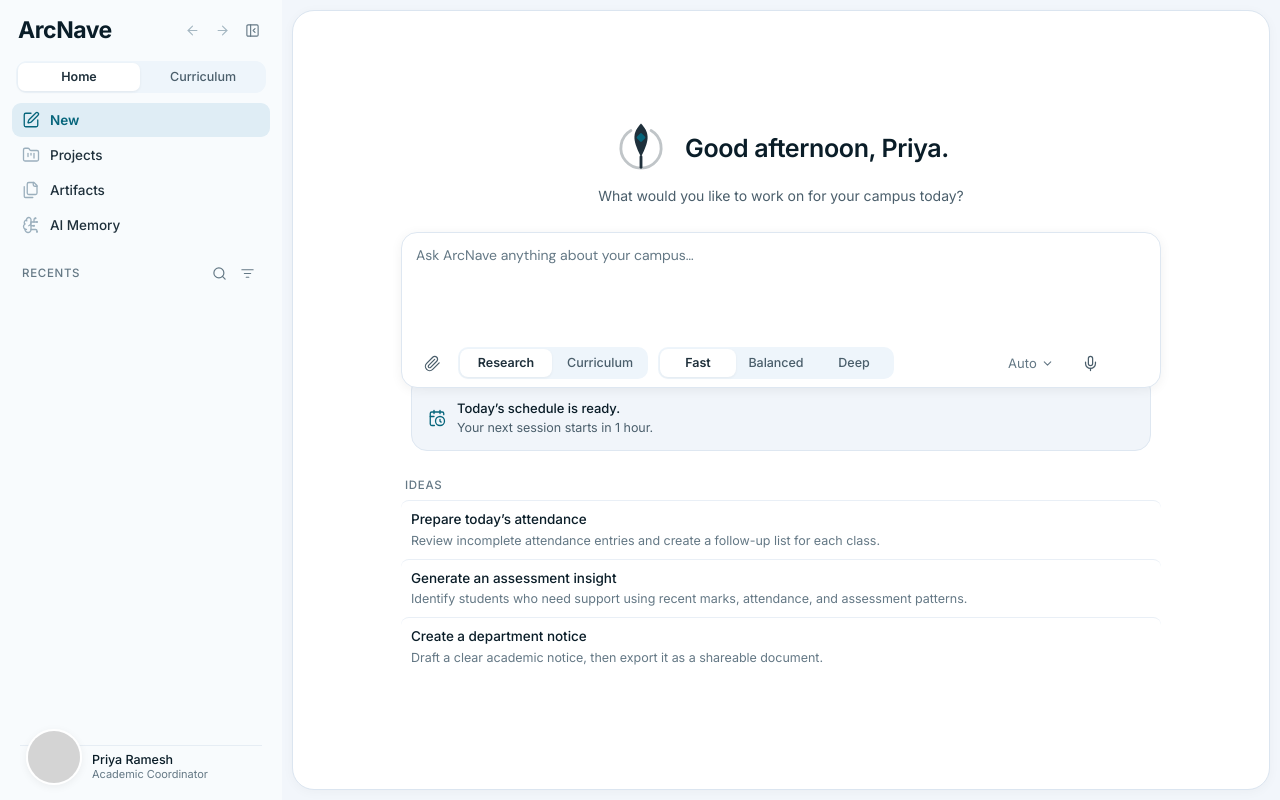
Test: L2 configured and held — the live fixture › offers a delegated switcher entry only in this state
Step 1. Click the button with aria-label "open profile" → {"x": 141, "y": 767}, box [20,746,262,788]
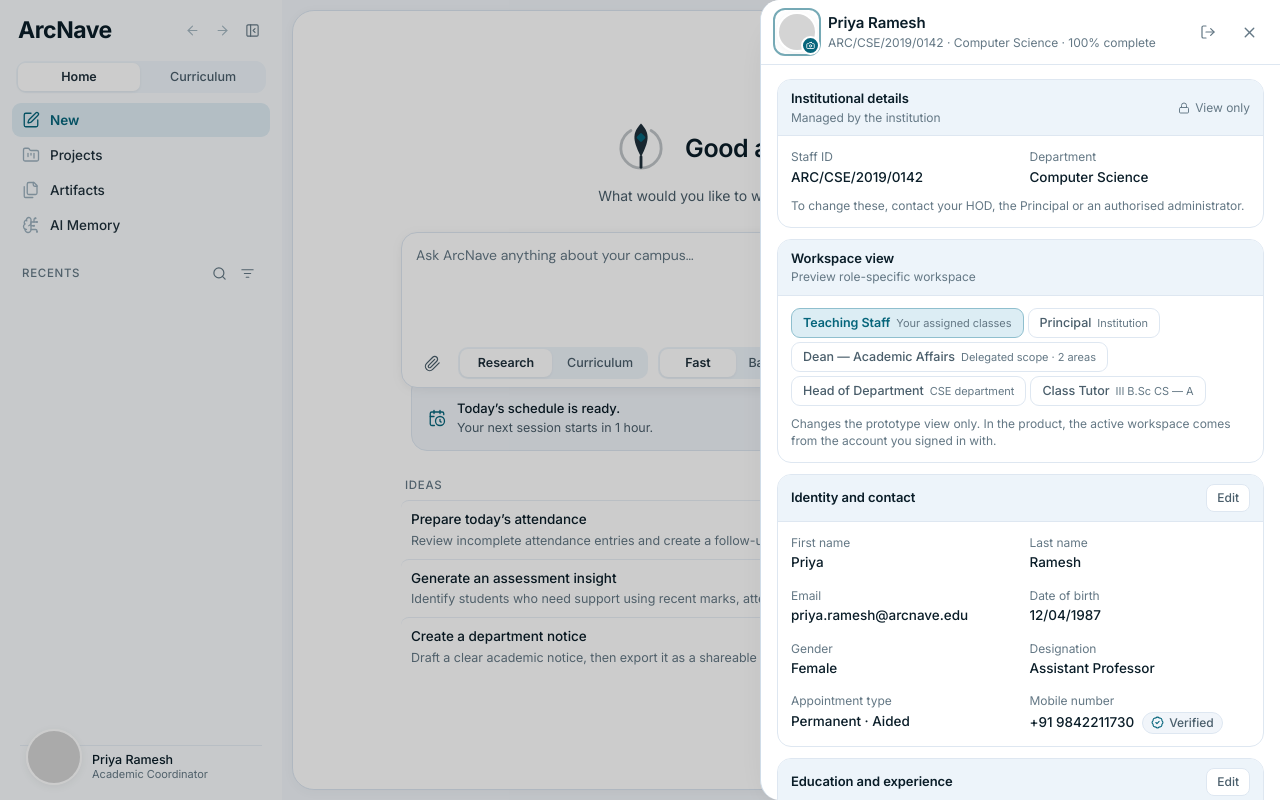
Expected: the radio button labelled "Dean — Academic Affairs" is shown, [791,342,1108,372]
